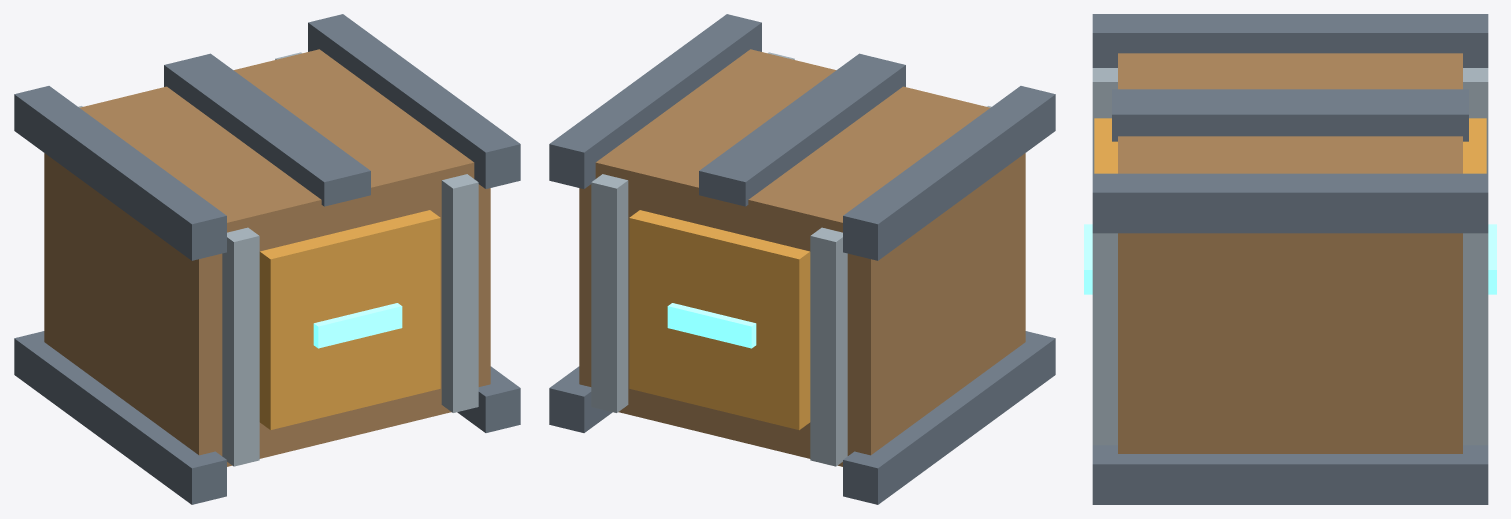
Rendered from cargo-crate.glb.
The picture shows the model from 3 angles, left to right: view 1: azimuth 30°, elevation 25°; view 2: azimuth 150°, elevation 25°; view 3: azimuth 270°, elevation 25°; orthographic projection. The views are drawn at different scales.
Visible parts, largest first — view 1: cargo-crate-bronze, cargo-crate-gunmetal, cargo-crate-amber, cargo-crate-steel, cargo-crate-cyan; view 2: cargo-crate-bronze, cargo-crate-gunmetal, cargo-crate-amber, cargo-crate-steel, cargo-crate-cyan; view 3: cargo-crate-bronze, cargo-crate-gunmetal, cargo-crate-steel, cargo-crate-amber, cargo-crate-cyan.
Part boxes in pixels (x1=…): cargo-crate-bronze: x1=44, y1=49, x2=490, y2=466; cargo-crate-gunmetal: x1=14, y1=14, x2=520, y2=504; cargo-crate-amber: x1=259, y1=210, x2=440, y2=430; cargo-crate-steel: x1=78, y1=52, x2=478, y2=466; cargo-crate-cyan: x1=313, y1=303, x2=402, y2=348; cargo-crate-bronze: x1=579, y1=49, x2=1025, y2=466; cargo-crate-gunmetal: x1=549, y1=14, x2=1055, y2=504; cargo-crate-amber: x1=629, y1=210, x2=810, y2=430; cargo-crate-steel: x1=591, y1=52, x2=991, y2=466; cargo-crate-cyan: x1=667, y1=303, x2=756, y2=348; cargo-crate-bronze: x1=1118, y1=53, x2=1462, y2=453; cargo-crate-gunmetal: x1=1092, y1=14, x2=1488, y2=504; cargo-crate-steel: x1=1092, y1=68, x2=1488, y2=445; cargo-crate-amber: x1=1094, y1=118, x2=1486, y2=173; cargo-crate-cyan: x1=1084, y1=224, x2=1496, y2=294.
Bounding box in the file's own units: 1.25 × 1.03 × 1.22.
